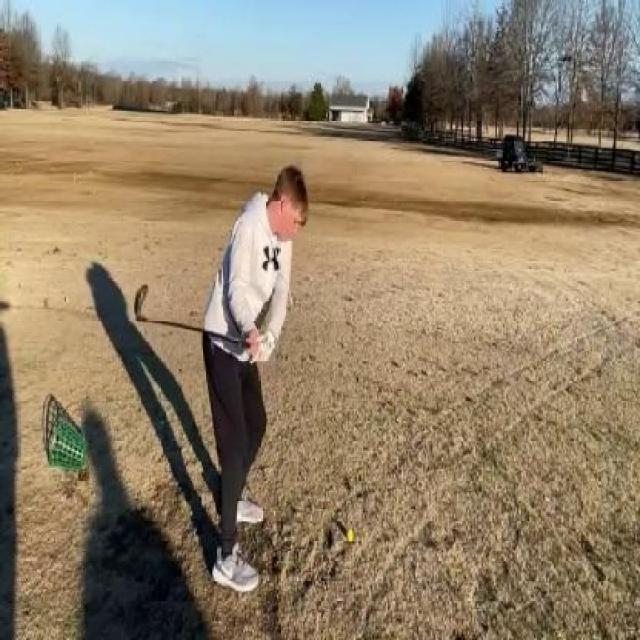club head: (132, 279, 156, 324)
